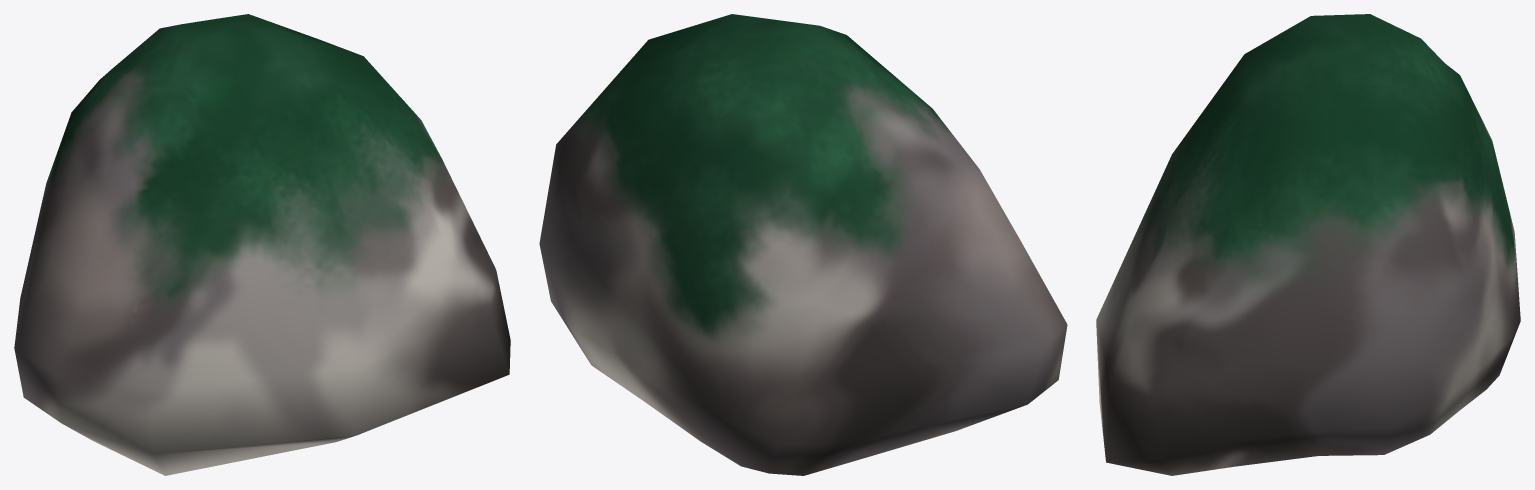
Rendered from Stone_03.fbx.
3 views of the same model, side by side, from view 1: azimuth 30°, elevation 25°; view 2: azimuth 150°, elevation 25°; view 3: azimuth 270°, elevation 25° (orthographic). The views are drawn at different scales.
Parts seen in each view (by area): view 1: Stone.003; view 2: Stone.003; view 3: Stone.003.
Boxes of the visible parts, x1,y1,x2,y2 form: Stone.003: [14, 14, 510, 475]; Stone.003: [539, 14, 1067, 475]; Stone.003: [1096, 14, 1520, 475].
Bounding box in the file's own units: 2.63 × 2.17 × 2.07.
